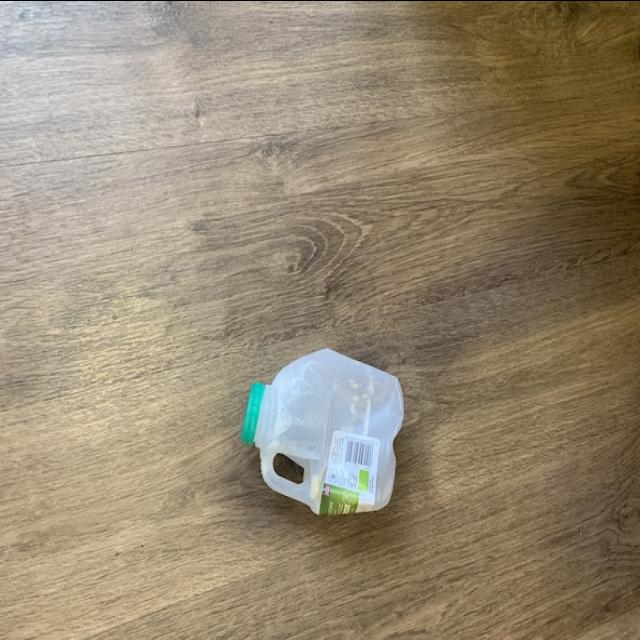HDPEM: (242, 341, 408, 521)
